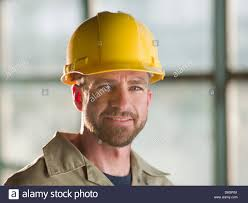Person_wearing_helmet: (55, 5, 172, 106)
